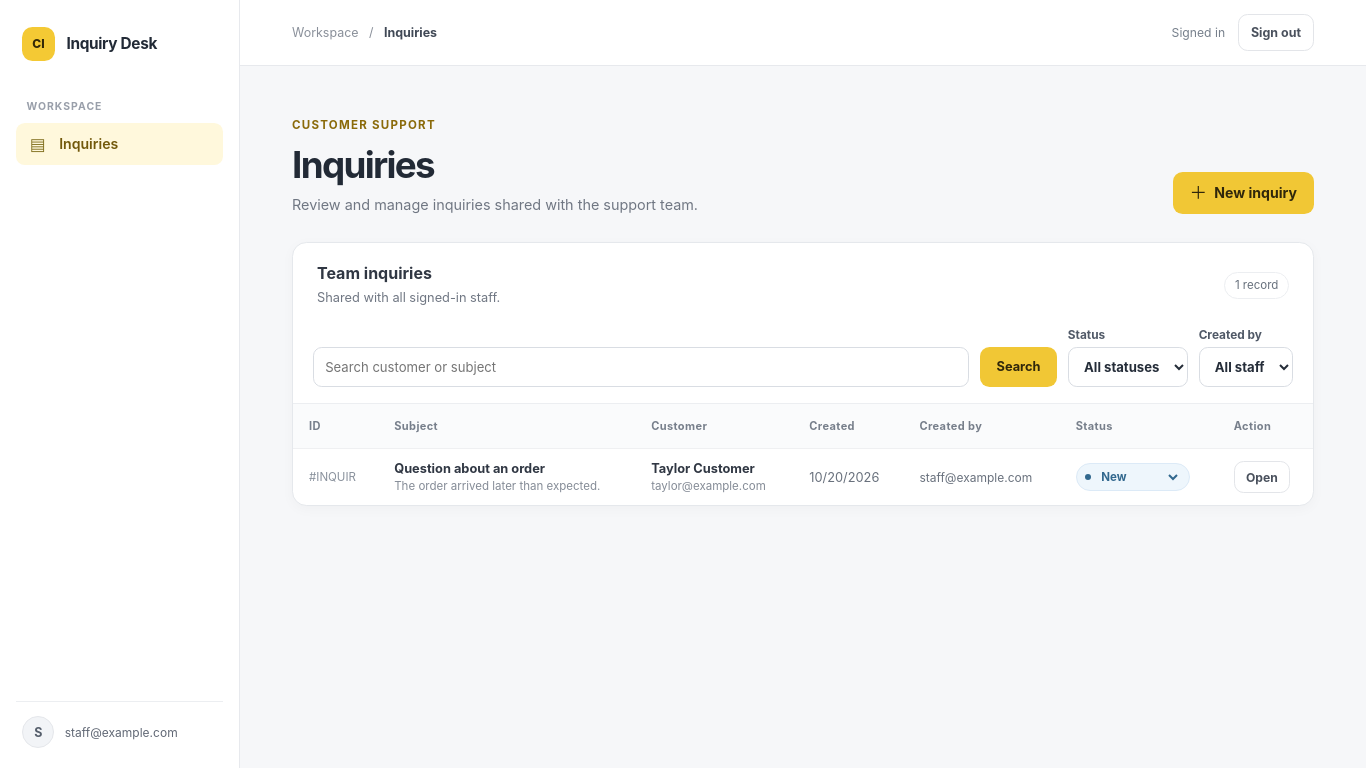
Test: App › refreshes the list and reports a stale status conflict
The image size is (1366, 768).
Expected: the text "Question about an order" is shown, 394,461 -> 545,476
Select "In progress" in the dropdown named "Status:". click: (1139,477)
box: 1097,469 -> 1181,485
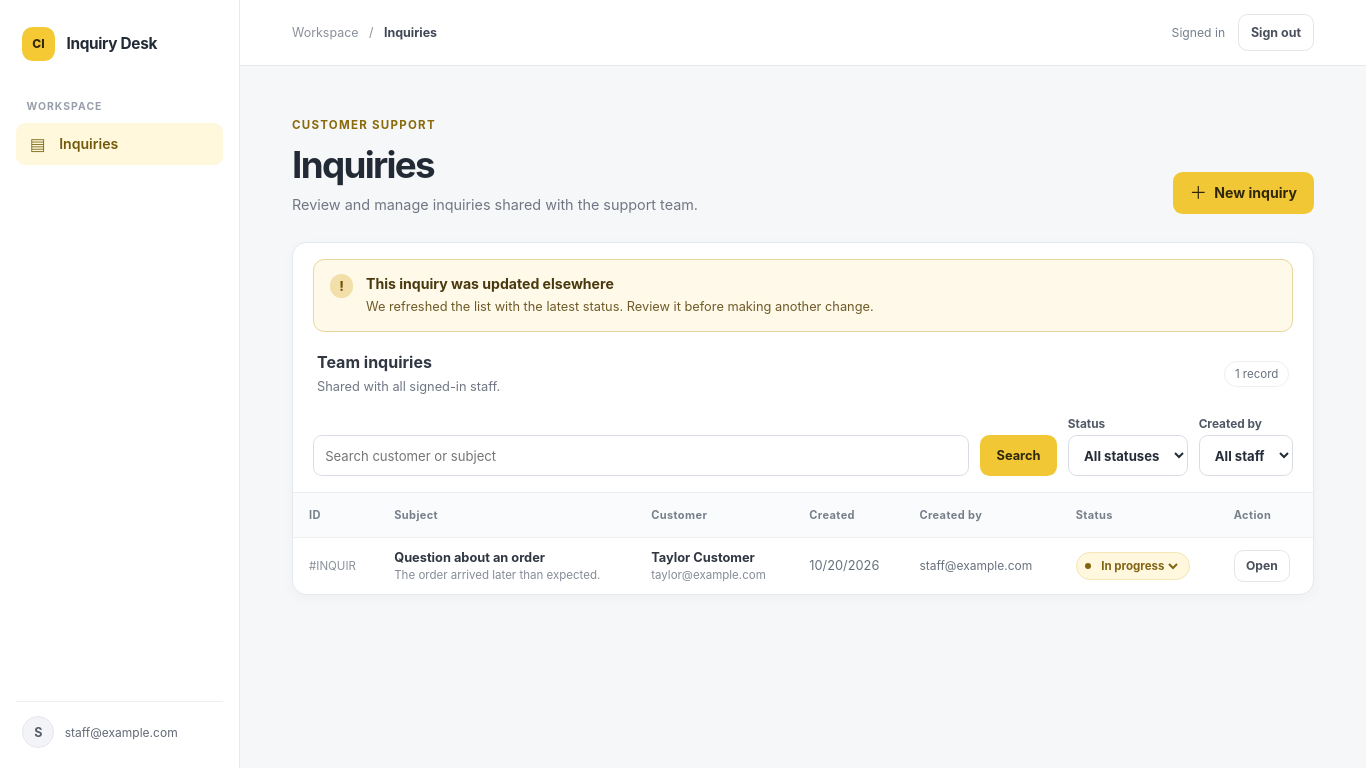
Result: the message that starts with "This inquiry was updated elsewhere" is shown at 366,276 -> 614,292
Result: the message that starts with "This inquiry was updated elsewhere" shows "We refreshed the list with the latest status." at 366,299 -> 874,314
